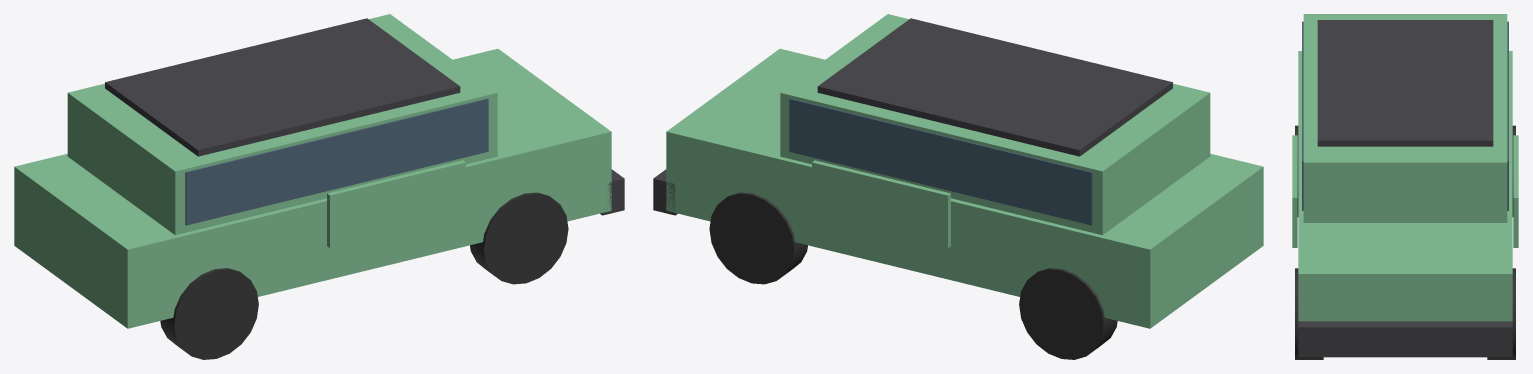
Rendered from suv.glb.
3 renders of one model, left to right at view 1: azimuth 30°, elevation 25°; view 2: azimuth 150°, elevation 25°; view 3: azimuth 270°, elevation 25°, orthographic. The views are drawn at different scales.
Visible parts, largest first — view 1: body, rack, cabin, glass, door_L, wheel_0, wheel_2, bumperF; view 2: body, rack, cabin, glass, door_R, wheel_1, wheel_3, bumperF; view 3: body, rack, cabin, bumperF, glass, door_L, door_R, wheel_0, wheel_1, wheel_2, wheel_3.
Boxes of the visible parts, left/top/right/bottom form: body: left=14, top=48, right=611, bottom=328; rack: left=105, top=18, right=460, bottom=156; cabin: left=67, top=14, right=497, bottom=235; glass: left=185, top=98, right=488, bottom=225; door_L: left=327, top=160, right=465, bottom=248; wheel_0: left=470, top=192, right=568, bottom=284; wheel_2: left=160, top=268, right=258, bottom=359; bumperF: left=600, top=169, right=624, bottom=215; body: left=666, top=48, right=1263, bottom=328; rack: left=817, top=18, right=1172, bottom=156; cabin: left=780, top=14, right=1210, bottom=235; glass: left=789, top=98, right=1092, bottom=225; door_R: left=812, top=160, right=950, bottom=248; wheel_1: left=709, top=192, right=807, bottom=284; wheel_3: left=1019, top=268, right=1117, bottom=359; bumperF: left=653, top=169, right=677, bottom=215; body: left=1298, top=51, right=1512, bottom=321; rack: left=1317, top=20, right=1493, bottom=146; cabin: left=1303, top=14, right=1507, bottom=222; bumperF: left=1298, top=321, right=1512, bottom=357; glass: left=1302, top=21, right=1508, bottom=210; door_L: left=1292, top=135, right=1297, bottom=247; door_R: left=1513, top=135, right=1518, bottom=247; wheel_0: left=1295, top=268, right=1323, bottom=359; wheel_1: left=1487, top=268, right=1515, bottom=359; wheel_2: left=1295, top=125, right=1298, bottom=216; wheel_3: left=1512, top=125, right=1515, bottom=216.
Size of the model in its own units: 4.93 by 1.91 by 2.06.
